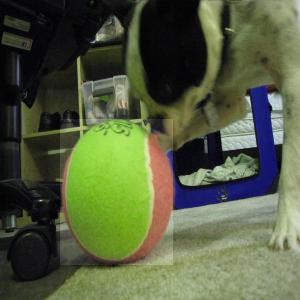TennisBall: (62, 120, 176, 267)
